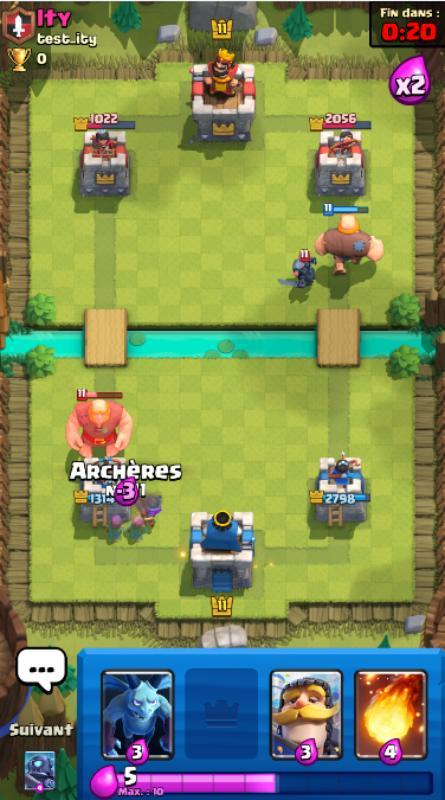archere: (124, 514, 148, 545), (103, 514, 127, 543)
geant: (315, 202, 386, 276), (65, 387, 133, 460)
mini_PEKKA: (276, 248, 319, 291)
mousquetaire: (132, 493, 162, 529)
